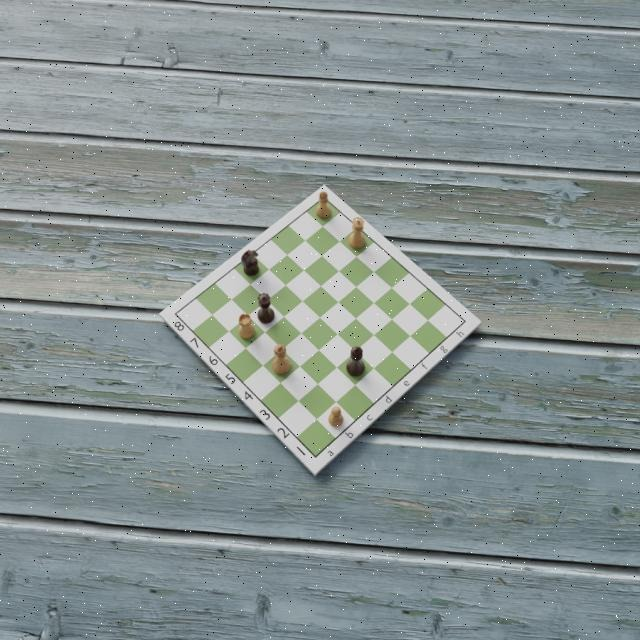black-knight: (241, 248, 259, 276)
black-queen: (256, 291, 275, 324)
white-bishop: (316, 190, 332, 220)
white-king: (346, 344, 366, 377), (272, 343, 292, 376)
white-pawn: (327, 406, 344, 428)
white-queen: (349, 215, 367, 249)
white-rook: (238, 314, 255, 341)
